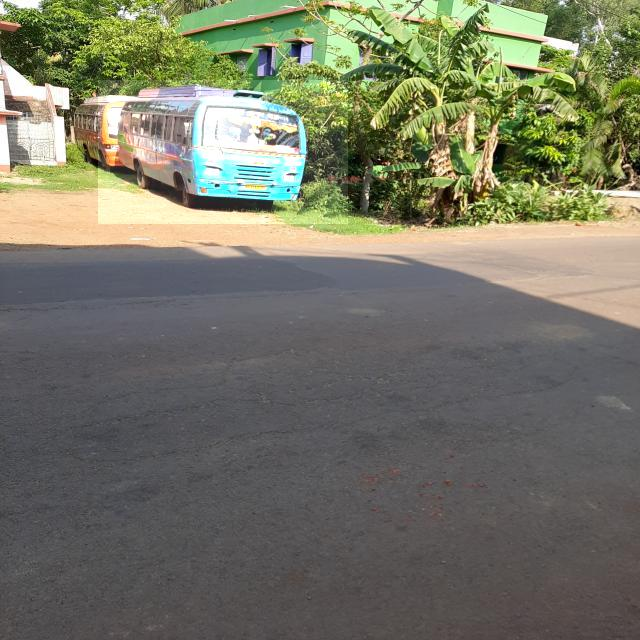Bus: (98, 80, 348, 224)
